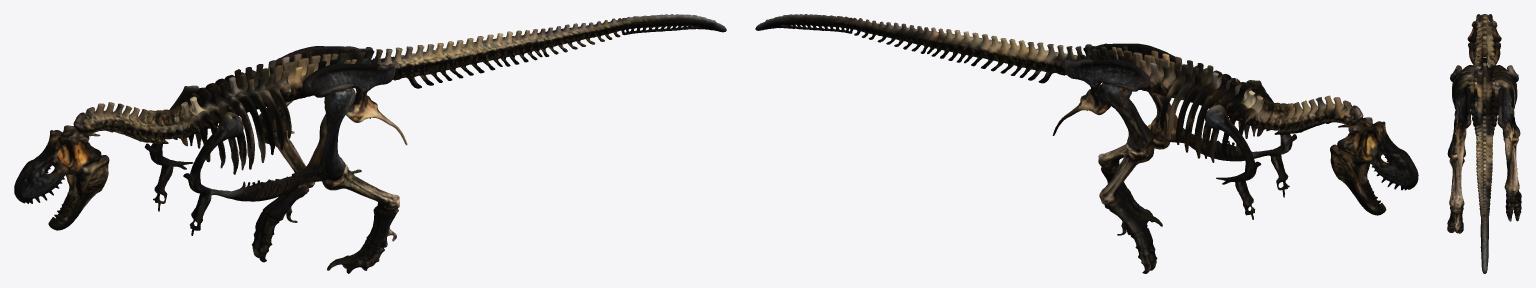
Rendered from bone.glb.
The picture shows the model from 3 angles, left to right: view 1: azimuth 30°, elevation 25°; view 2: azimuth 150°, elevation 25°; view 3: azimuth 270°, elevation 25°; orthographic projection. The views are drawn at different scales.
Visible parts, largest first — view 1: node_0; view 2: node_0; view 3: node_0.
Part boxes in pixels (left/top/right/bottom): node_0: left=14, top=14, right=726, bottom=273; node_0: left=755, top=14, right=1418, bottom=273; node_0: left=1447, top=14, right=1521, bottom=273.
Size of the model in its own units: 1.19 by 0.3457 by 0.1606.
1 material, 1 textured.
